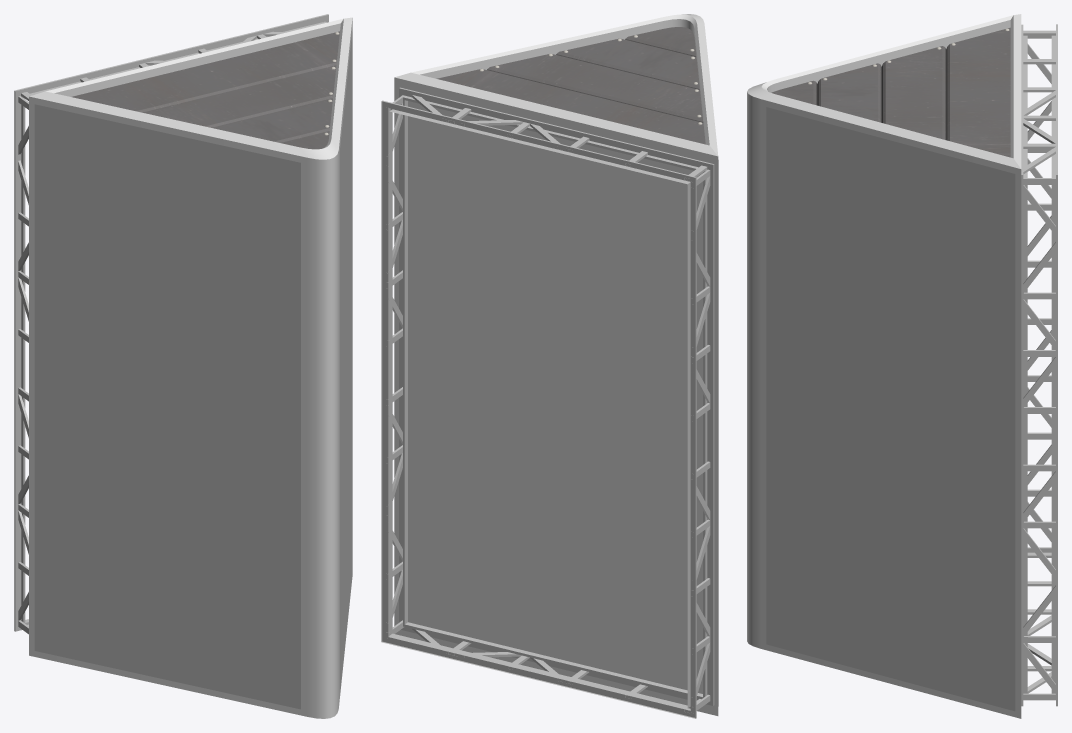
The model's file is KB3D_CBP_Billboard_P.fbx.
The picture shows the model from 3 angles, left to right: view 1: azimuth 30°, elevation 25°; view 2: azimuth 150°, elevation 25°; view 3: azimuth 270°, elevation 25°; orthographic projection.
Parts seen in each view (by area): view 1: KB3D_CBP_Billboard_P_Main; view 2: KB3D_CBP_Billboard_P_Main; view 3: KB3D_CBP_Billboard_P_Main.
Boxes of the visible parts, left/top/right/bottom form: KB3D_CBP_Billboard_P_Main: left=14, top=14, right=352, bottom=718; KB3D_CBP_Billboard_P_Main: left=381, top=14, right=718, bottom=718; KB3D_CBP_Billboard_P_Main: left=747, top=14, right=1057, bottom=718.
Bounding box in the file's own units: 298 × 500 × 253.
